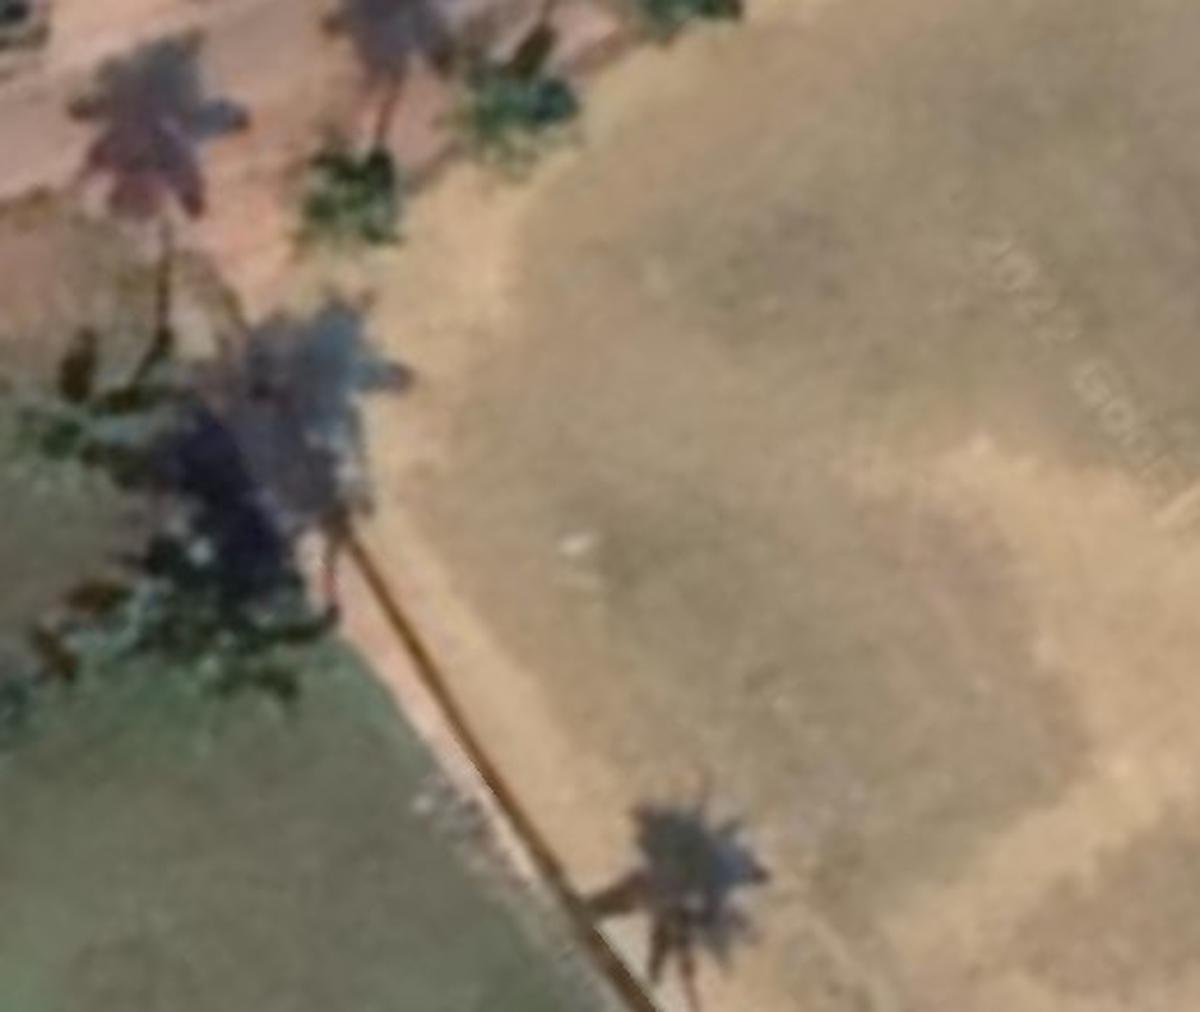coconut: (150, 595, 331, 729), (266, 129, 414, 277), (6, 338, 155, 479), (449, 44, 583, 173)
